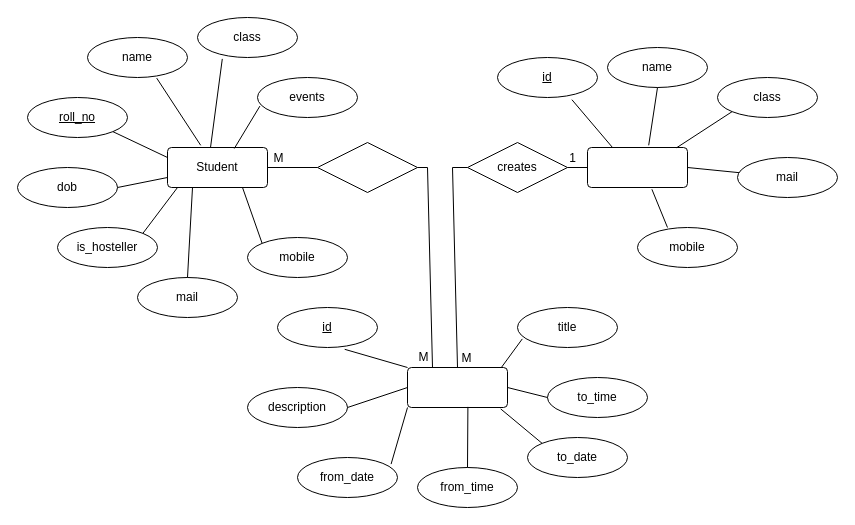
Some shapes in this 855 by 525 pixel diagram are drawn without their labels. The centre of each missing label's shape, as x and y in pixels:
"assigned to" belongs at point 367,167.
"Event" belongs at point 457,387.
"Staff" belongs at point 637,167.
